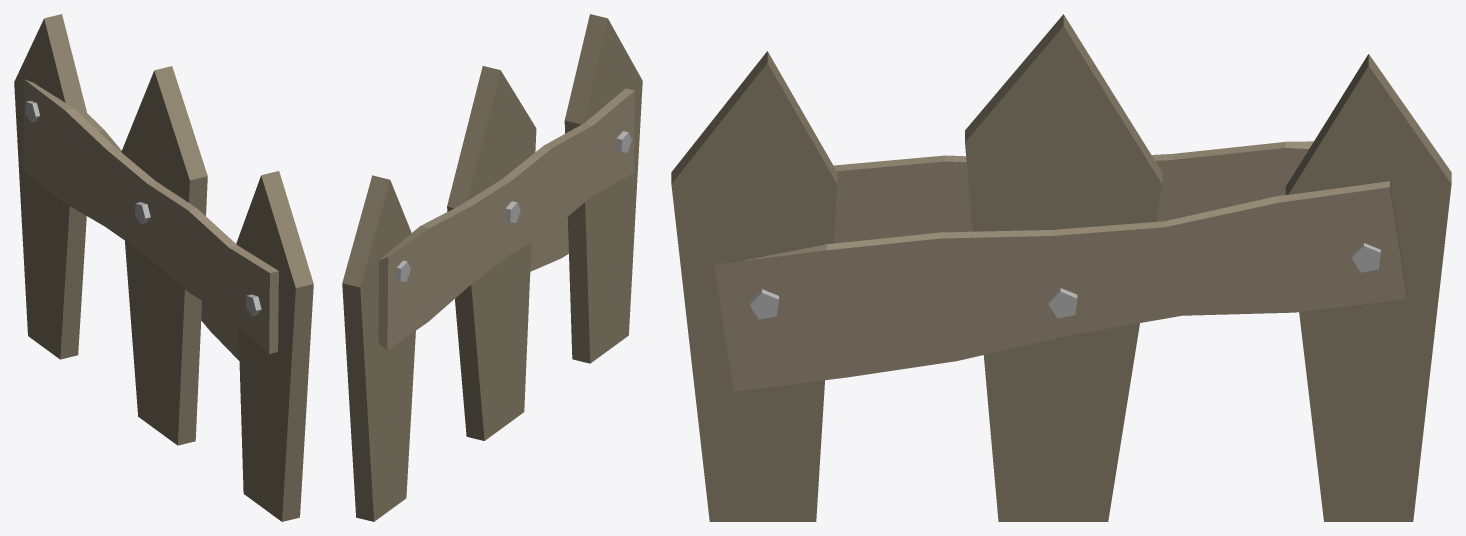
The model's file is Fence3.fbx.
3 views of the same model, side by side, from view 1: azimuth 30°, elevation 25°; view 2: azimuth 150°, elevation 25°; view 3: azimuth 270°, elevation 25° (orthographic). The views are drawn at different scales.
Visible parts, largest first — view 1: Fence_v3; view 2: Fence_v3; view 3: Fence_v3.
Boxes of the visible parts, x1,y1,x2,y2 form: Fence_v3: (14, 14, 313, 521); Fence_v3: (342, 14, 642, 521); Fence_v3: (671, 14, 1451, 521).
Size of the model in its own units: 0.5228 by 3.81 by 5.44.
